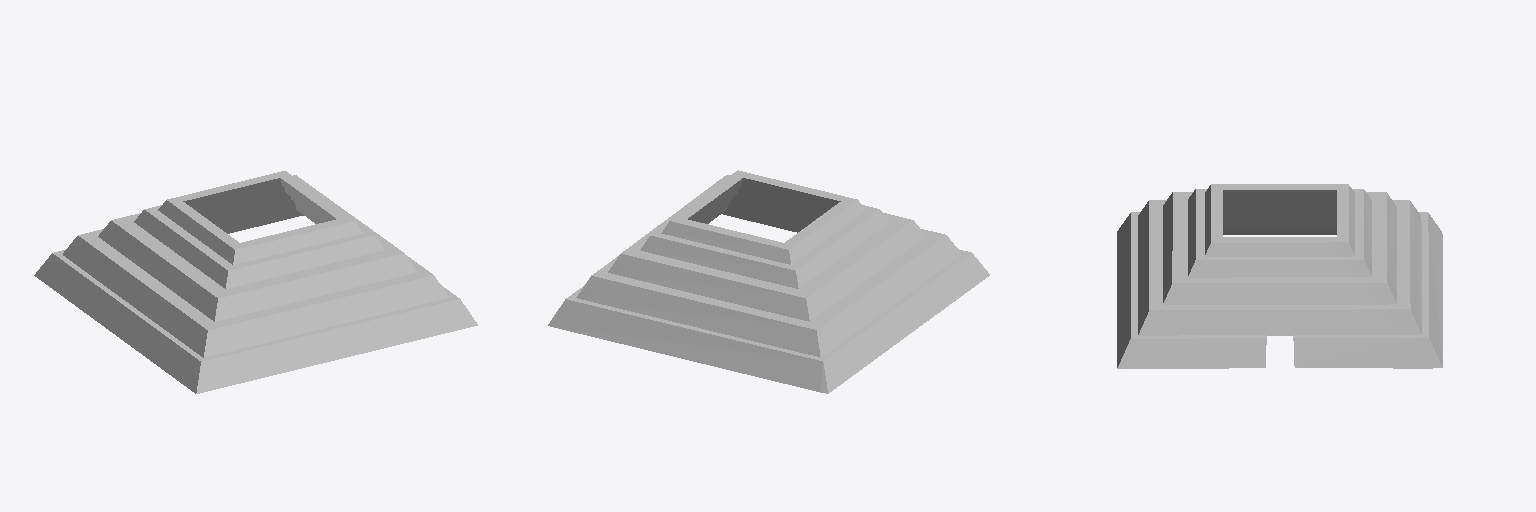
File: PyramidNew.obj
3 renders of one model, left to right at view 1: azimuth 30°, elevation 25°; view 2: azimuth 150°, elevation 25°; view 3: azimuth 270°, elevation 25°, orthographic.
Parts seen in each view (by area): view 1: pCube20; view 2: pCube20; view 3: pCube20.
Part boxes in pixels (x1,y1,x2,y2): pCube20: (34,171,477,393); pCube20: (548,170,989,393); pCube20: (1117,184,1442,368).
Bounding box in the file's own units: 11.67 × 3.53 × 11.66.